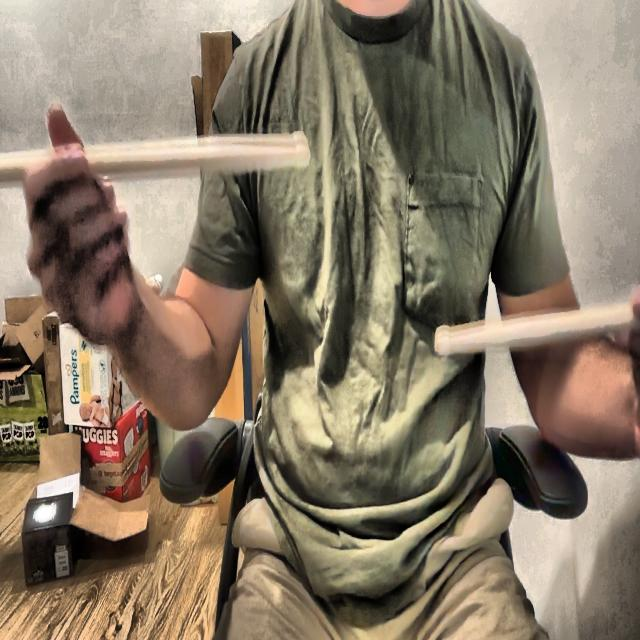Drumstick-Heads: (290, 124, 312, 170), (432, 322, 454, 360)
